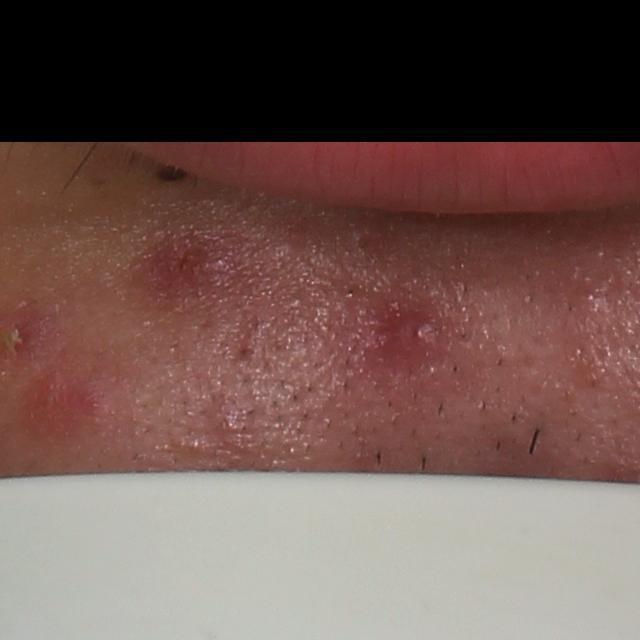nevus: (153, 159, 187, 182)
papule: (149, 231, 244, 293), (391, 312, 444, 364)
